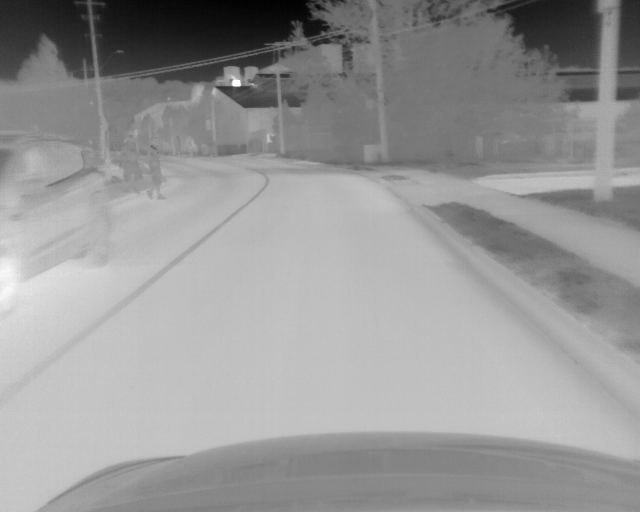car: (1, 128, 114, 314)
people: (120, 129, 142, 196), (146, 137, 167, 203)
